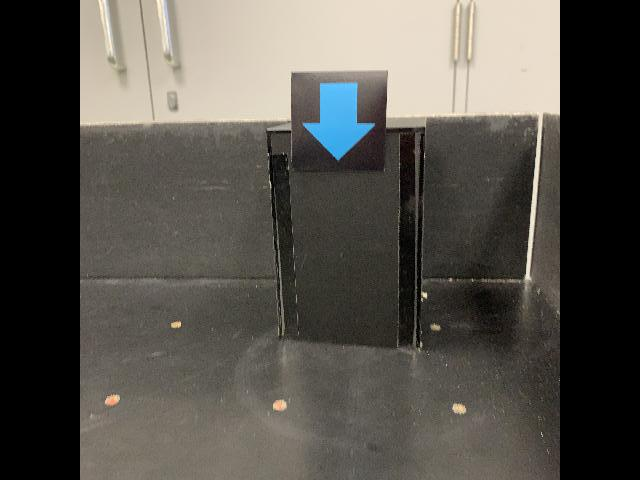down: (290, 69, 389, 175)
